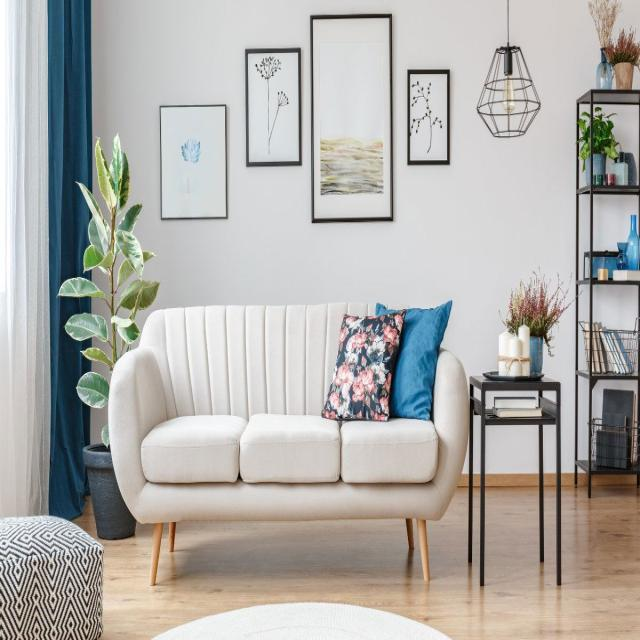sofa: (108, 300, 470, 586)
